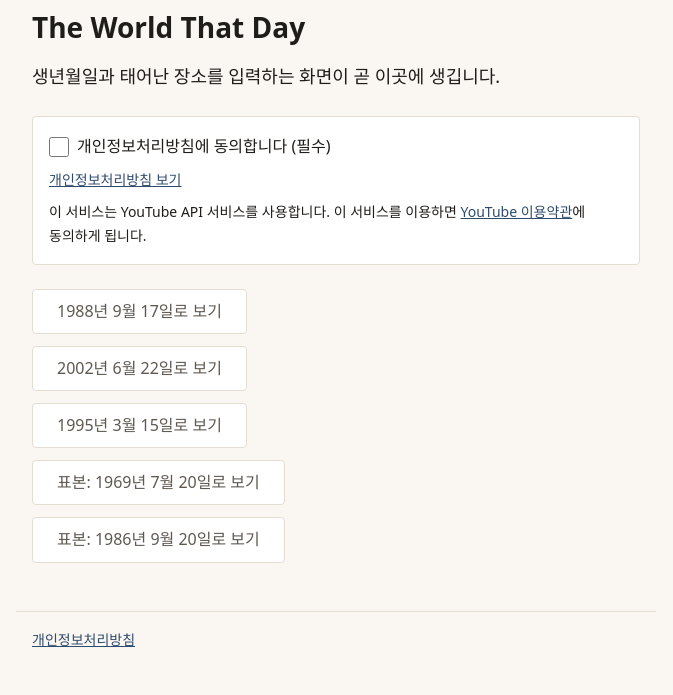
Test case: before agreeing (T2 (1)·(2)) › 1988년 9월 17일로 보기 does not open the story when clicked
The width and height of the screenshot is (673, 695).
Click the button "1988년 9월 17일로 보기" at (139, 311), box [32,289,247,334]
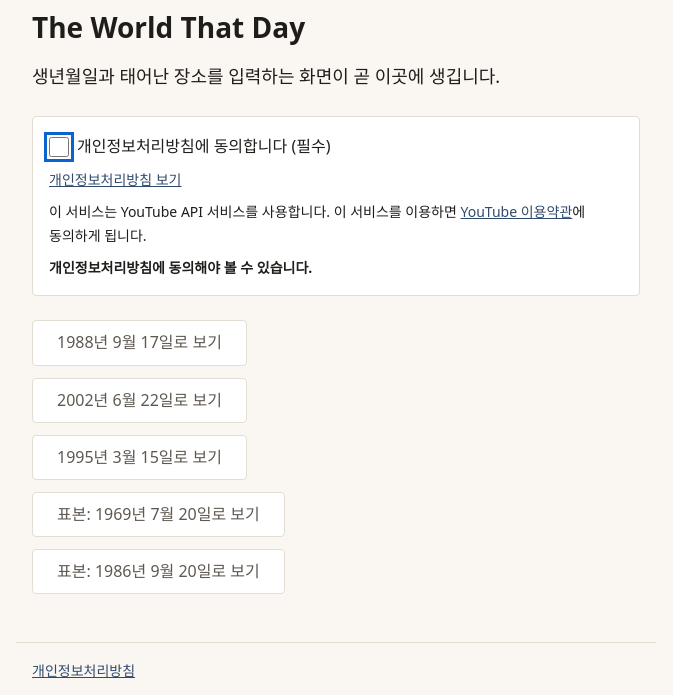
Now the text "개인정보처리방침에 동의해야 볼 수 있습니다." is shown, box [49,258,312,277]
